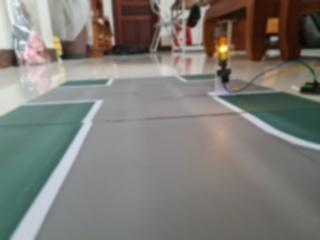yellow: (207, 28, 238, 68)
